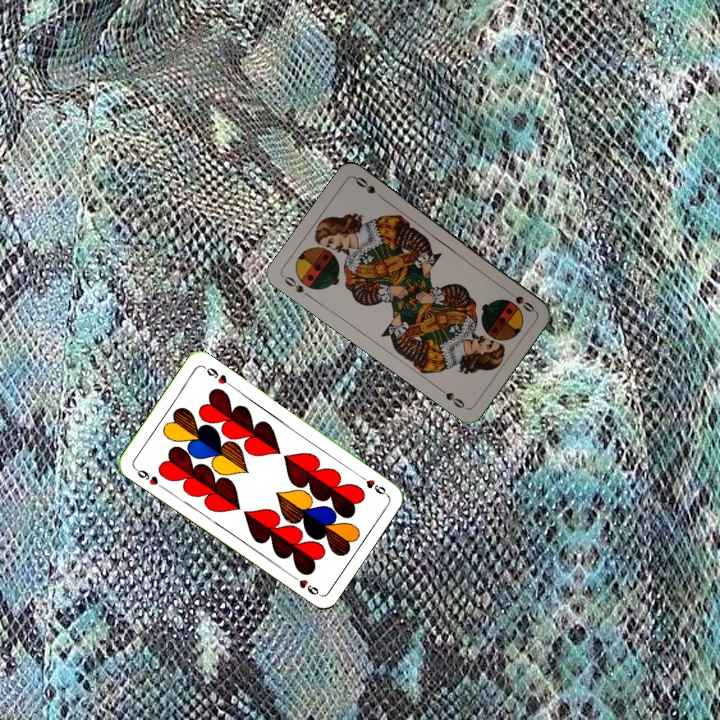H9: (130, 463, 166, 491), (354, 470, 390, 498)
SO: (502, 285, 537, 315), (280, 272, 314, 301)
